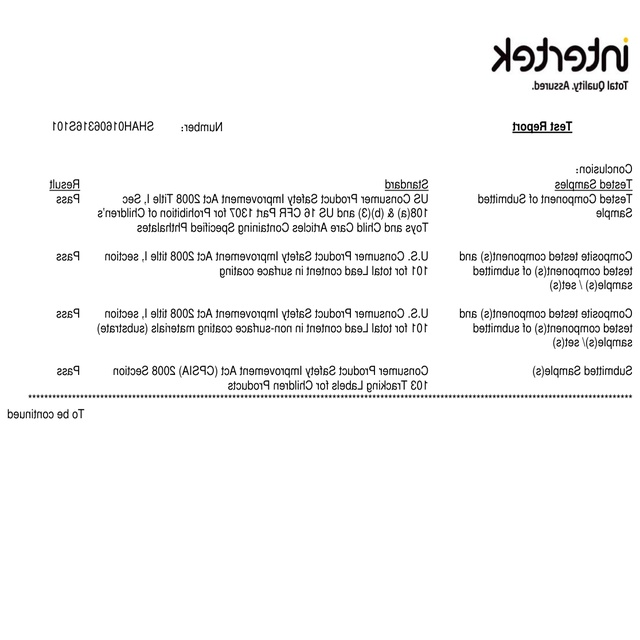intertek: (488, 34, 632, 76)
